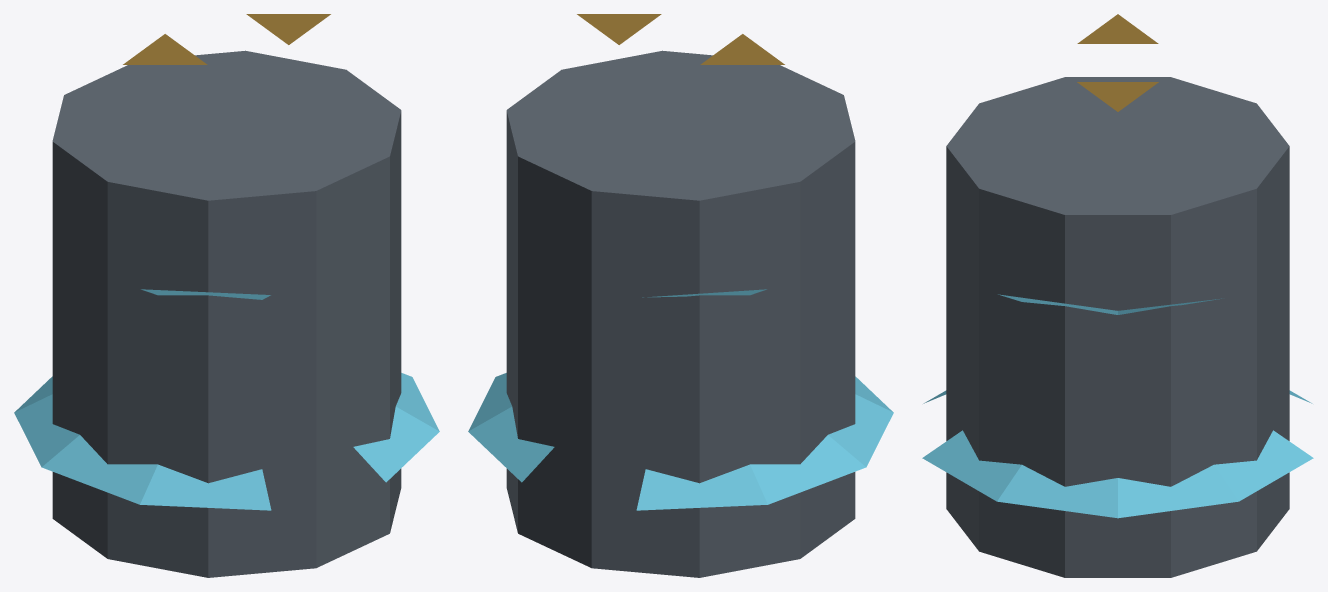
Rendered from power-generator.lod.glb.
The picture shows the model from 3 angles, left to right: view 1: azimuth 30°, elevation 25°; view 2: azimuth 150°, elevation 25°; view 3: azimuth 270°, elevation 25°; orthographic projection. The views are drawn at different scales.
Visible parts, largest first — view 1: m; view 2: m; view 3: m.
Boxes of the visible parts, x1,y1,x2,y2 form: m: [14, 14, 439, 577]; m: [468, 14, 893, 577]; m: [922, 14, 1313, 577].
Size of the model in its own units: 0.067 by 0.08 by 0.0637.
